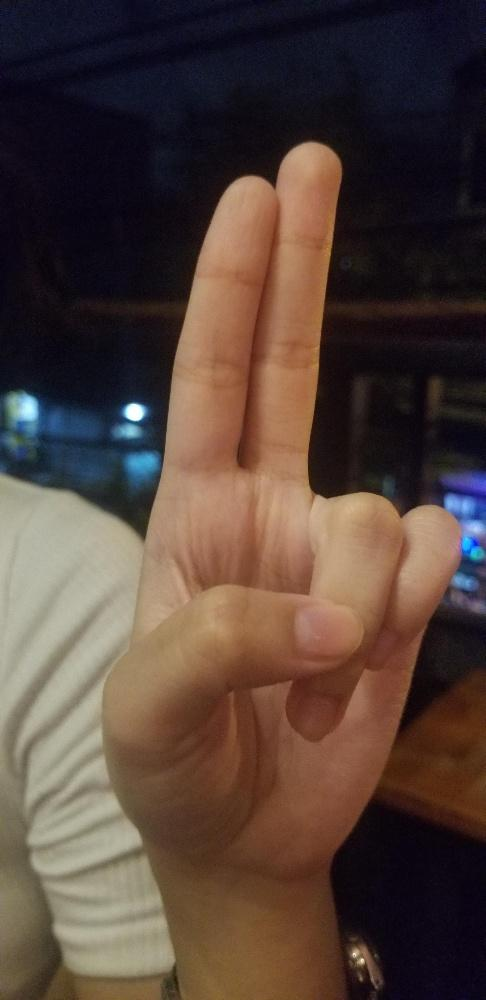u: (96, 137, 462, 871)
